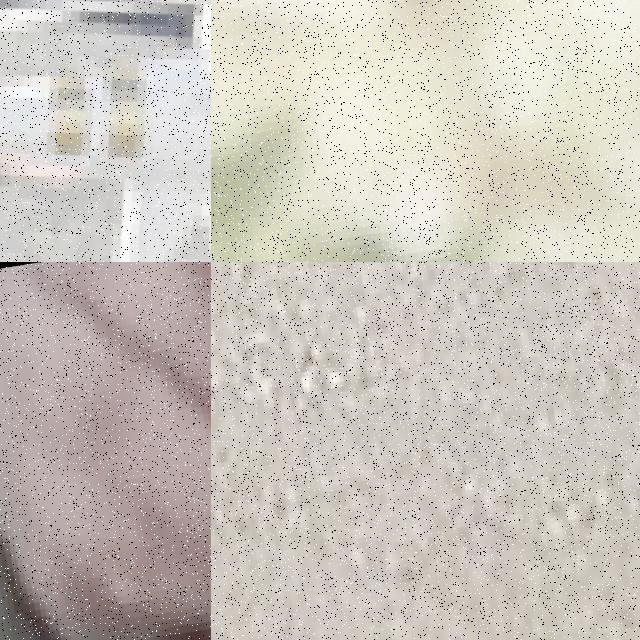drone: (0, 0, 211, 262)
